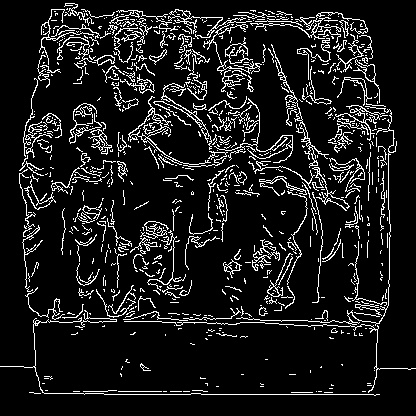buddha-horse-riding: (125, 43, 321, 314)
